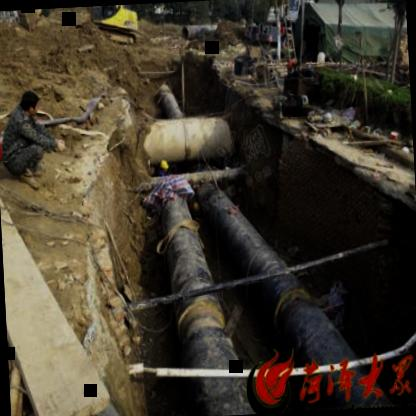head: (21, 84, 40, 119)
